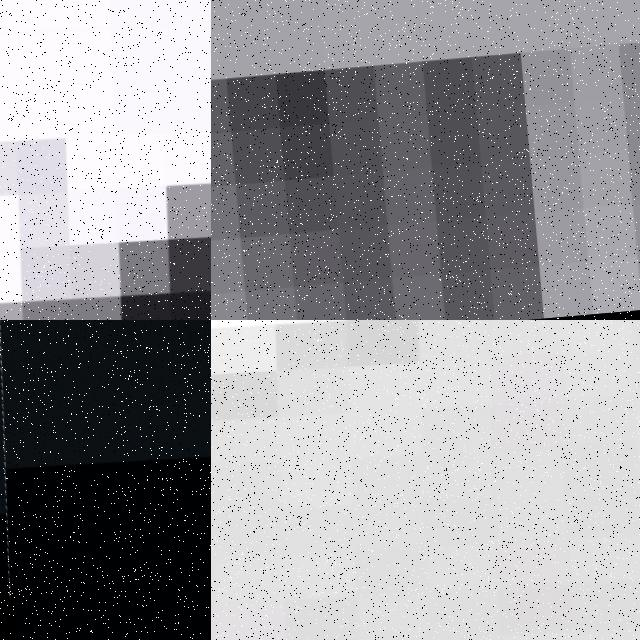0: (0, 0, 211, 320)
drone: (211, 320, 640, 640), (0, 320, 211, 640)
